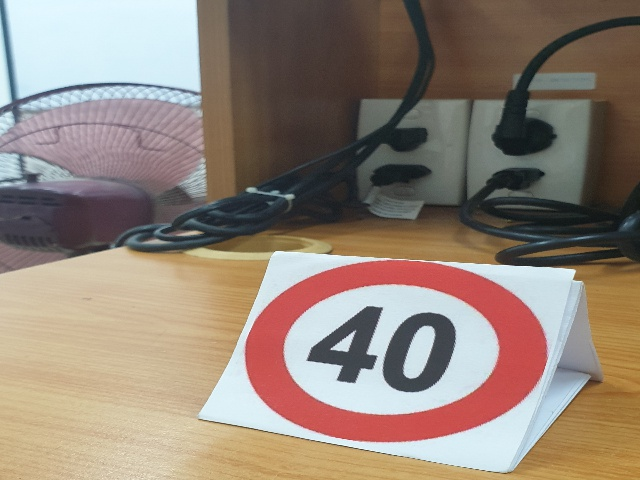Limit 40: (242, 260, 549, 445)
